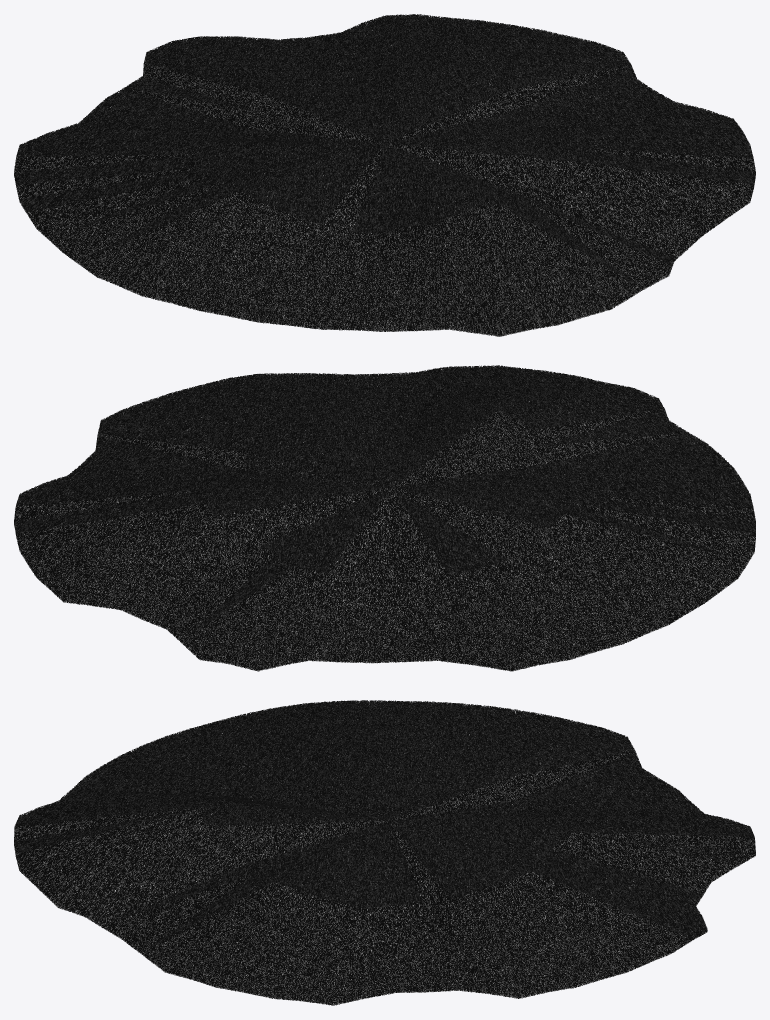
Rendered from island0_grass.dae.
The picture shows the model from 3 angles, top to bottom: view 1: azimuth 30°, elevation 25°; view 2: azimuth 150°, elevation 25°; view 3: azimuth 270°, elevation 25°; orthographic projection. The views are drawn at different scales.
Parts seen in each view (by area): view 1: IslandGrass; view 2: IslandGrass; view 3: IslandGrass.
Part boxes in pixels (bbox=[...]): IslandGrass: bbox=[14, 14, 755, 336]; IslandGrass: bbox=[14, 365, 755, 671]; IslandGrass: bbox=[14, 700, 755, 1005].
Bounding box in the file's own units: 71.49 × 74.25 × 4.79.
Materials: 1 (1 with a texture image).
